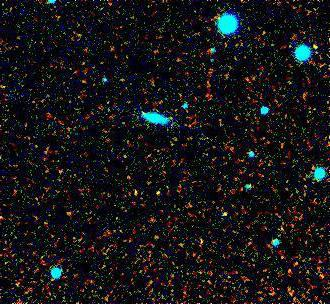star: (300, 29, 330, 59)
